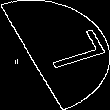L_SW: (14, 30, 96, 80)
